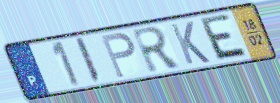1: (51, 40, 82, 88)
E: (199, 12, 251, 62)
I: (73, 35, 104, 85)
K: (168, 20, 213, 67)
P: (98, 31, 137, 80)
R: (129, 24, 184, 75)
